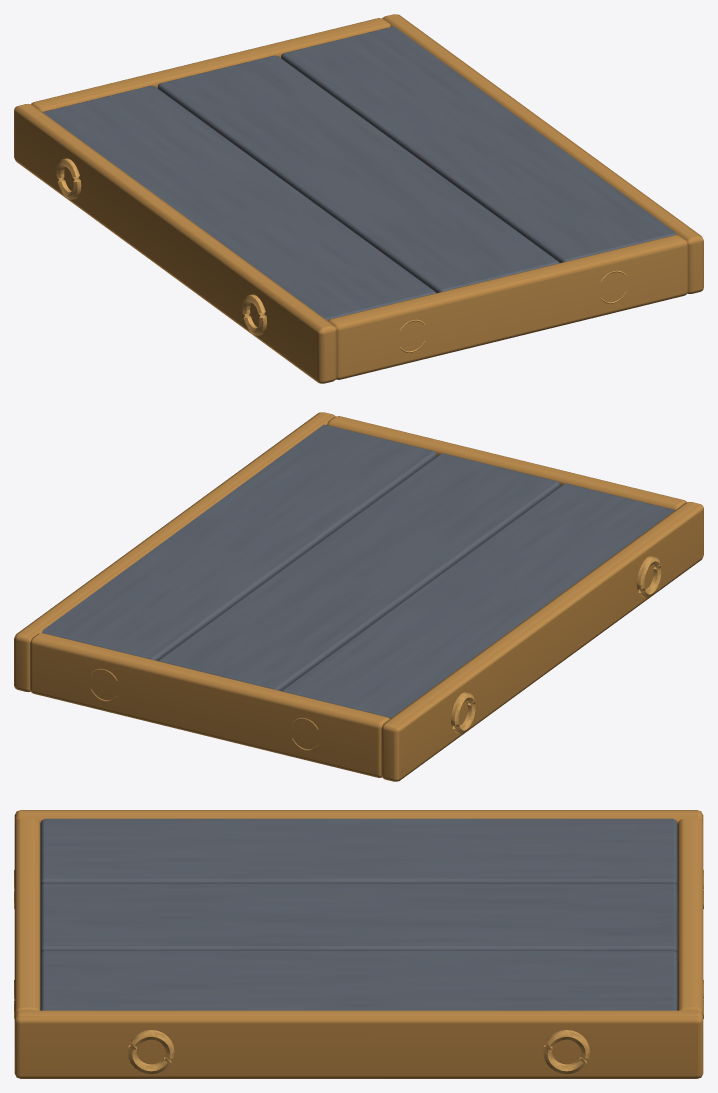
File: EF_G05_FoundryLift.fbx
3 renders of one model, top to bottom at view 1: azimuth 30°, elevation 25°; view 2: azimuth 150°, elevation 25°; view 3: azimuth 270°, elevation 25°, orthographic. The views are drawn at different scales.
Visible parts, largest first — view 1: Deck, Frame, Rings; view 2: Deck, Frame, Rings; view 3: Deck, Frame, Rings.
Boxes of the visible parts, x1=… form: Deck: x1=42, y1=26, x2=675, y2=320; Frame: x1=14, y1=14, x2=703, y2=383; Rings: x1=56, y1=158, x2=627, y2=352; Deck: x1=42, y1=424, x2=675, y2=718; Frame: x1=14, y1=412, x2=703, y2=781; Rings: x1=89, y1=556, x2=661, y2=750; Deck: x1=40, y1=818, x2=677, y2=1010; Frame: x1=14, y1=810, x2=703, y2=1078; Rings: x1=14, y1=870, x2=703, y2=1073.
Bounding box in the file's own units: 3 × 0.4 × 3.99.
